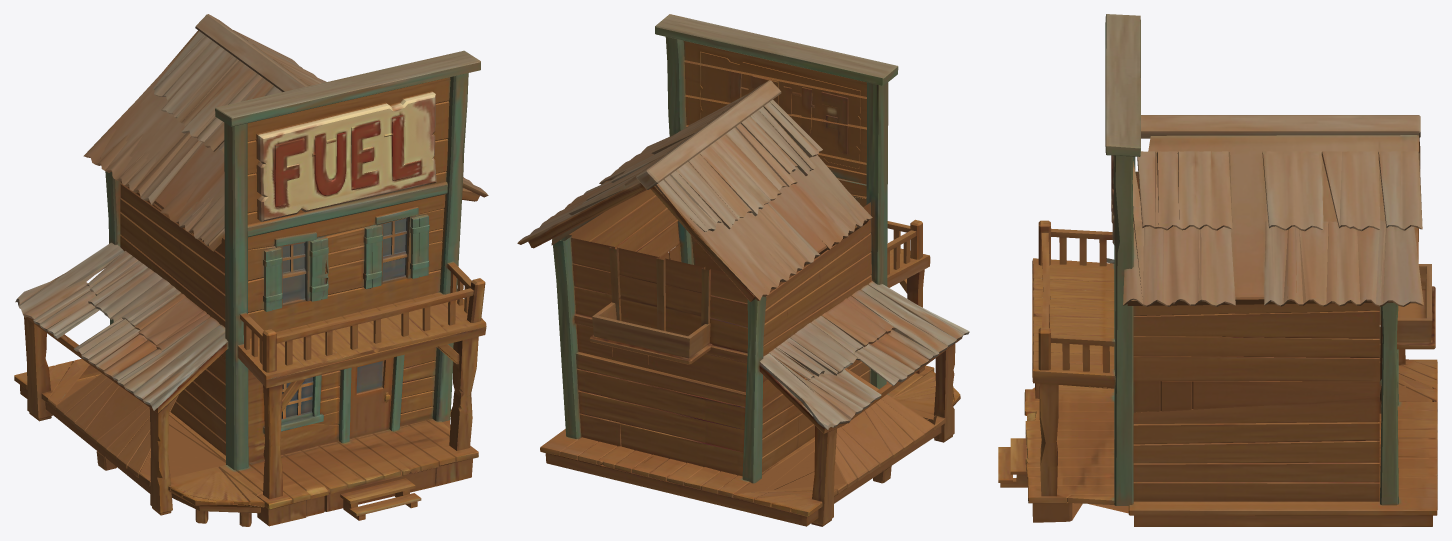
Rendered from wl_fuel_store.glb.
3 renders of one model, left to right at view 1: azimuth 30°, elevation 25°; view 2: azimuth 150°, elevation 25°; view 3: azimuth 270°, elevation 25°, orthographic. The views are drawn at different scales.
Parts seen in each view (by area): view 1: wl_fuel_store; view 2: wl_fuel_store; view 3: wl_fuel_store.
Boxes of the visible parts, x1=… form: wl_fuel_store: x1=14, y1=14, x2=488, y2=526; wl_fuel_store: x1=517, y1=14, x2=969, y2=526; wl_fuel_store: x1=998, y1=14, x2=1437, y2=526.
Bounding box in the file's own units: 7.45 × 8 × 7.81.
1 material, 1 textured.
